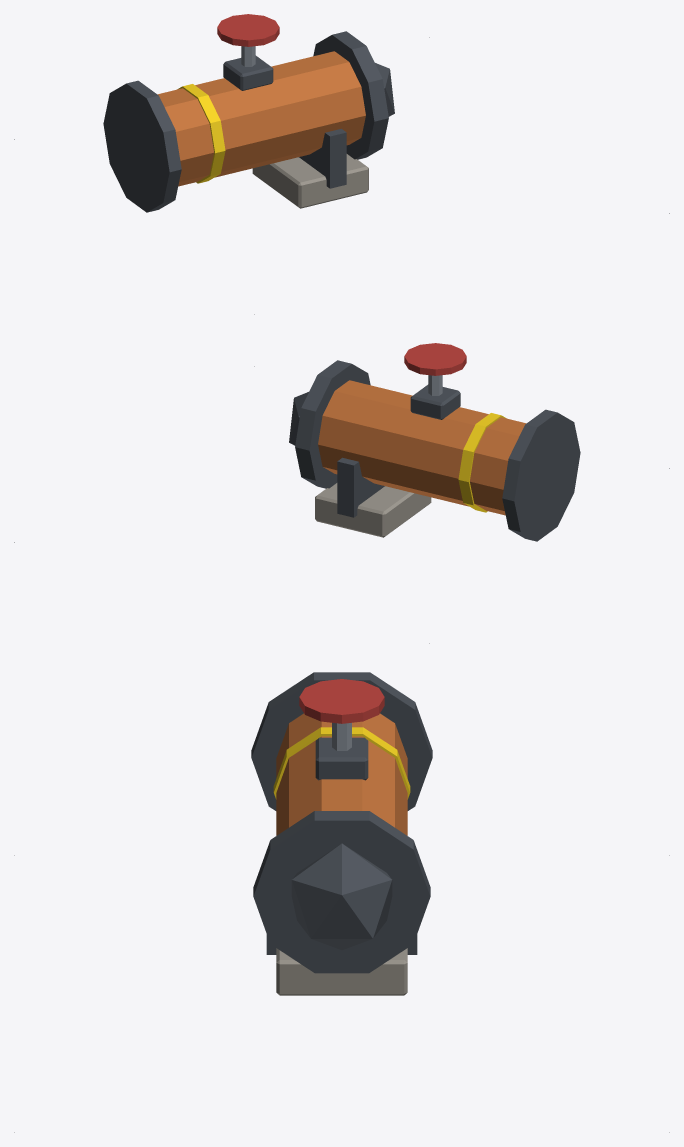
File: tuyau_bout_t1.glb
The picture shows the model from 3 angles, top to bottom: view 1: azimuth 30°, elevation 25°; view 2: azimuth 150°, elevation 25°; view 3: azimuth 270°, elevation 25°; orthographic projection. The views are drawn at different scales.
Parts seen in each view (by area): view 1: pieces_cuivre.016, pieces_acier_sombre.044, pieces_beton.044, pieces_rouge.008, pieces_rive_t1.014; view 2: pieces_cuivre.016, pieces_acier_sombre.044, pieces_beton.044, pieces_rouge.008, pieces_rive_t1.014; view 3: pieces_acier_sombre.044, pieces_cuivre.016, pieces_beton.044, pieces_rouge.008, pieces_rive_t1.014.
Part boxes in pixels (bbox=[...]): pieces_cuivre.016: bbox=[157, 51, 365, 186]; pieces_acier_sombre.044: bbox=[103, 31, 394, 212]; pieces_beton.044: bbox=[252, 154, 368, 208]; pieces_rouge.008: bbox=[217, 14, 279, 46]; pieces_rive_t1.014: bbox=[177, 84, 225, 183]; pieces_cuivre.016: bbox=[318, 380, 526, 515]; pieces_acier_sombre.044: bbox=[289, 360, 580, 541]; pieces_beton.044: bbox=[315, 483, 431, 537]; pieces_rouge.008: bbox=[404, 343, 466, 375]; pieces_rive_t1.014: bbox=[458, 413, 506, 512]; pieces_acier_sombre.044: bbox=[251, 672, 432, 973]; pieces_cuivre.016: bbox=[276, 713, 407, 835]; pieces_beton.044: bbox=[276, 948, 407, 995]; pieces_rouge.008: bbox=[299, 679, 384, 723]; pieces_rive_t1.014: bbox=[273, 727, 410, 799].
Size of the model in its own units: 1 by 0.395 by 1.
